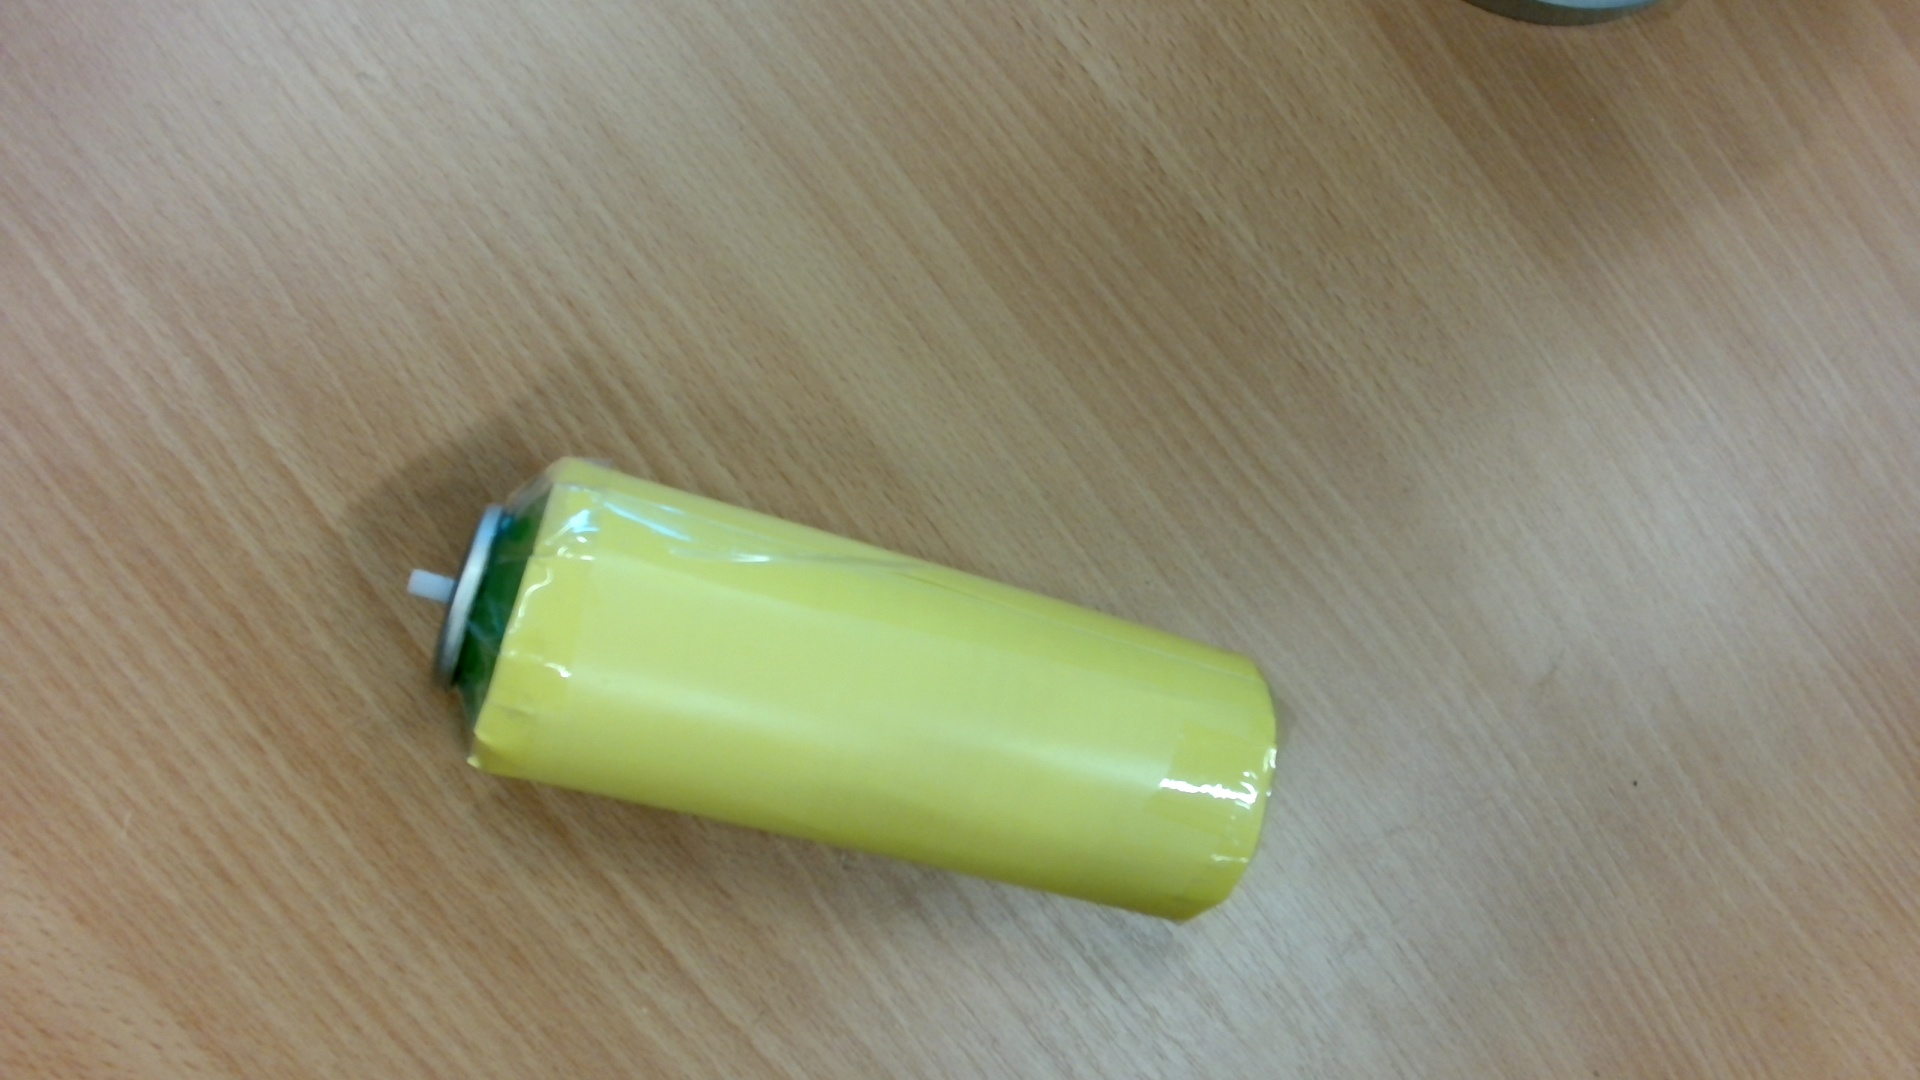Cylinder: (394, 448, 1296, 948)
